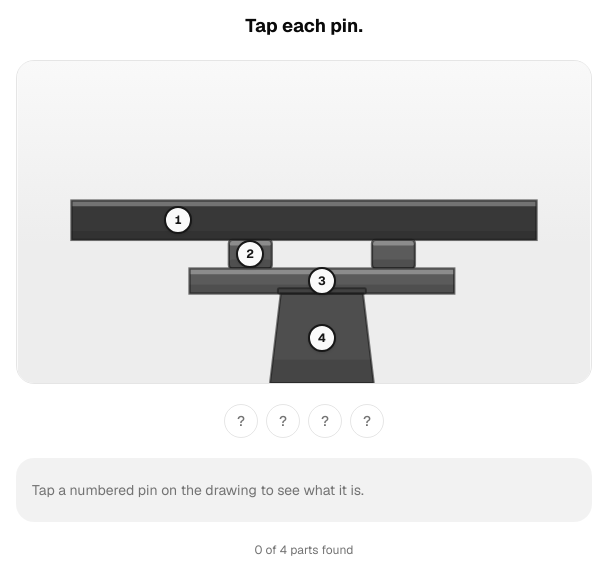
Scenario: PartsExplore › names a part only once the learner has found it
Check: the text "0 of 4 parts found" is shown, box left=254, top=542, right=353, bottom=558
Click the button named "Part 2". click: point(250, 254)
box: left=236, top=240, right=264, bottom=268
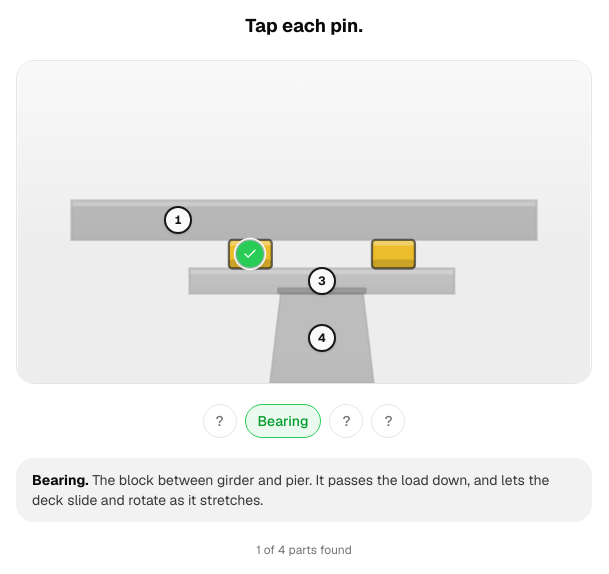
Check: the text "1 of 4 parts found" is shown, box left=256, top=542, right=352, bottom=558
Check: the text "Bearing." is shown, box left=32, top=471, right=89, bottom=489
